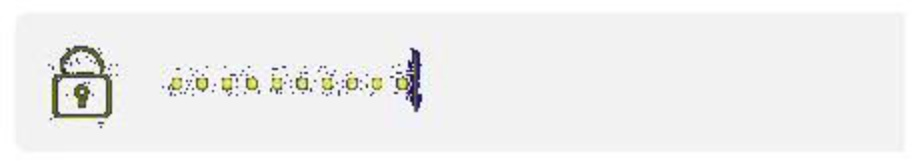EditText: (1, 1, 921, 165)
